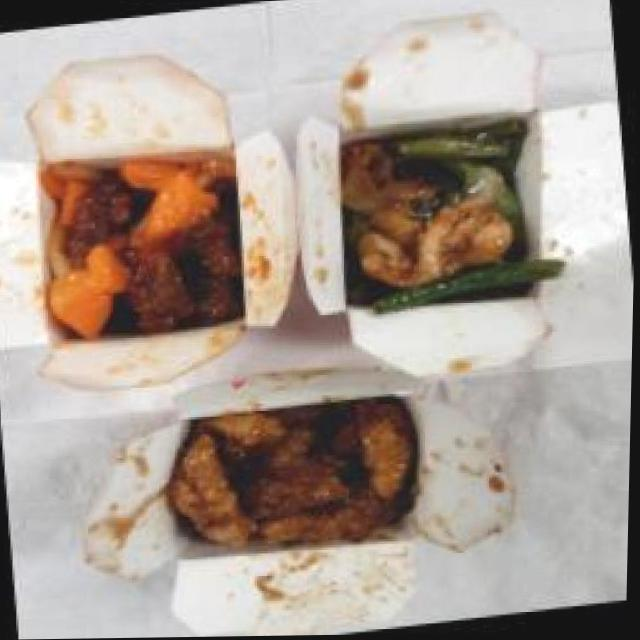Beijing Beef: (29, 142, 252, 350)
String Bean Chicken Breast: (329, 107, 556, 312)
The Original Orange Chicken: (168, 390, 426, 563)
